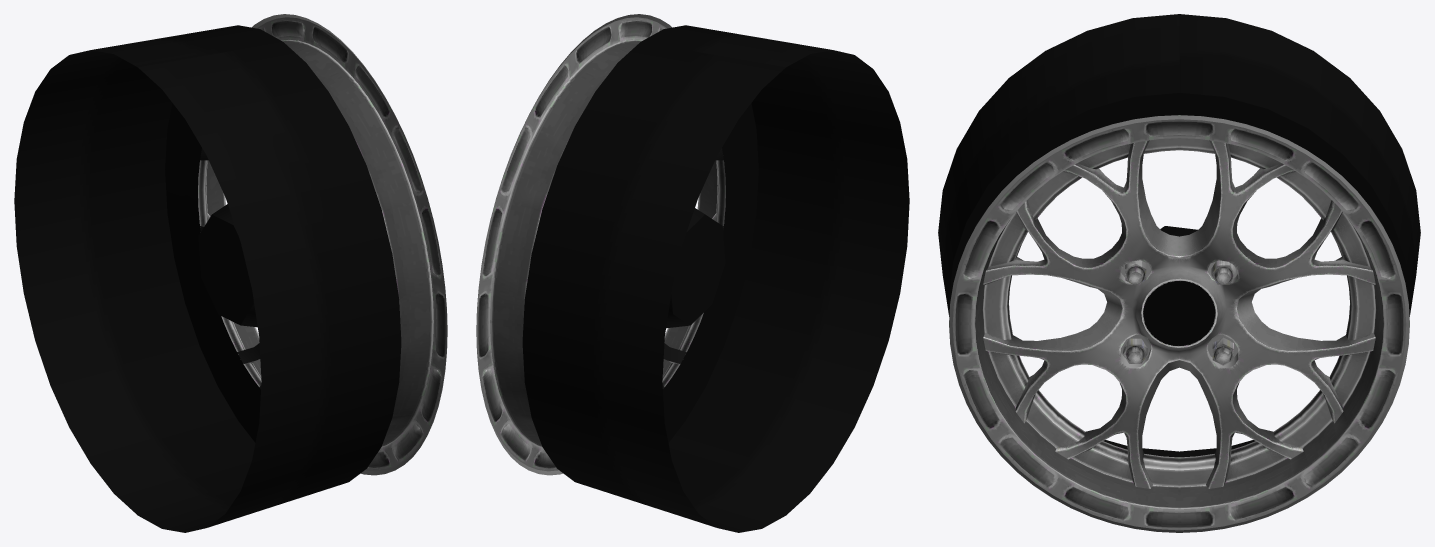
Rendered from wheel24.fbx.
The picture shows the model from 3 angles, left to right: view 1: azimuth 30°, elevation 25°; view 2: azimuth 150°, elevation 25°; view 3: azimuth 270°, elevation 25°; orthographic projection. The views are drawn at different scales.
Visible parts, largest first — view 1: com_cxr_wheel_wheel_inner_rim_, wheel_rim; view 2: com_cxr_wheel_wheel_inner_rim_, wheel_rim; view 3: wheel_rim, com_cxr_wheel_wheel_inner_rim_, com_cxr_wheel_wheel_rim_, com_cxr_wheel_wheel_chrome_rim_.
Boxes of the visible parts, x1=… form: com_cxr_wheel_wheel_inner_rim_: x1=14, y1=25, x2=401, y2=532; wheel_rim: x1=198, y1=14, x2=447, y2=475; com_cxr_wheel_wheel_inner_rim_: x1=522, y1=25, x2=909, y2=532; wheel_rim: x1=476, y1=14, x2=725, y2=475; wheel_rim: x1=949, y1=115, x2=1409, y2=532; com_cxr_wheel_wheel_inner_rim_: x1=938, y1=14, x2=1420, y2=457; com_cxr_wheel_wheel_rim_: x1=983, y1=140, x2=1375, y2=488; com_cxr_wheel_wheel_chrome_rim_: x1=1123, y1=260, x2=1235, y2=365.
Bounding box in the file's own units: 0.2267 × 0.5021 × 0.5021.
1 material, 1 textured.
